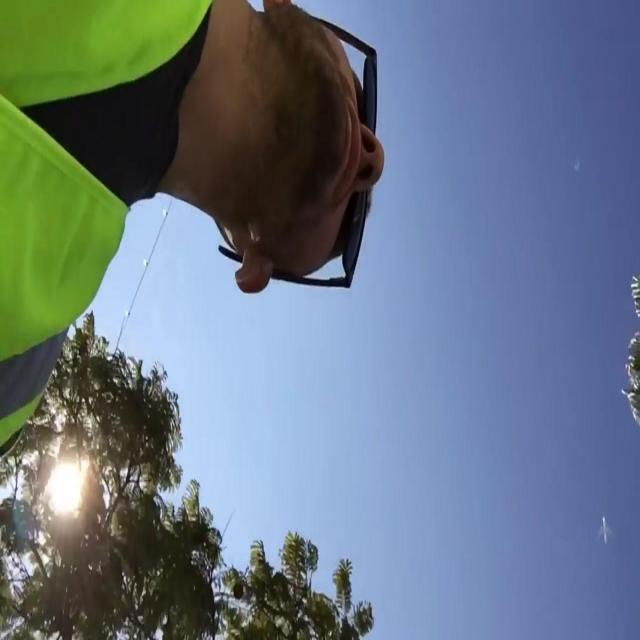vest: (0, 1, 213, 459)
